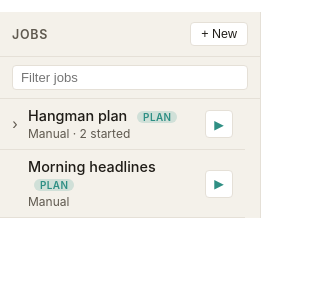
Scenario: JobList › jobs a run started › nests them under the job that started them, closed
Check: the text "Hangman plan — assets" is not shown
Check: the text "Manual · 2 started" is shown, box [28,126,130,141]
Click the button named "Show the jobs it started": (15, 124) [6,115,24,133]
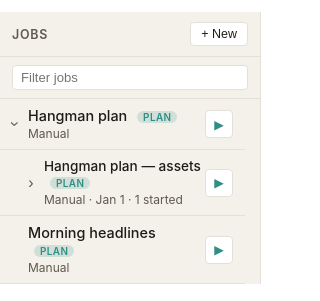
Check: the text "Hangman plan — assets" is shown, box [44,158,201,174]
